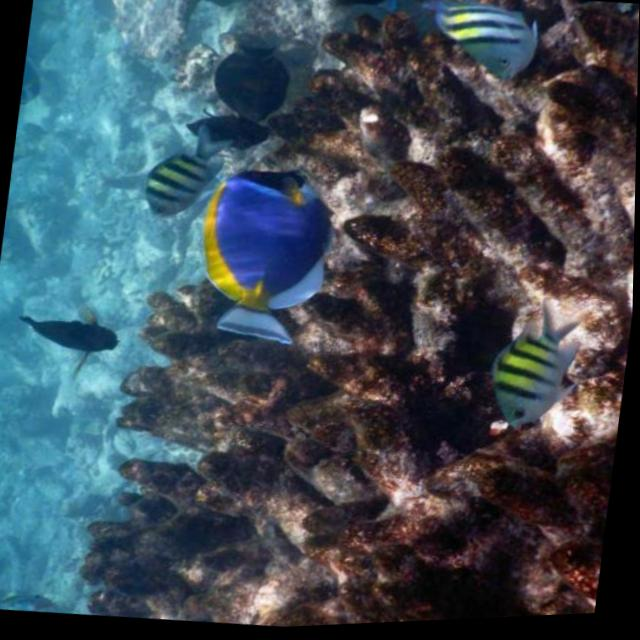Dead Coral: (97, 0, 640, 636)
